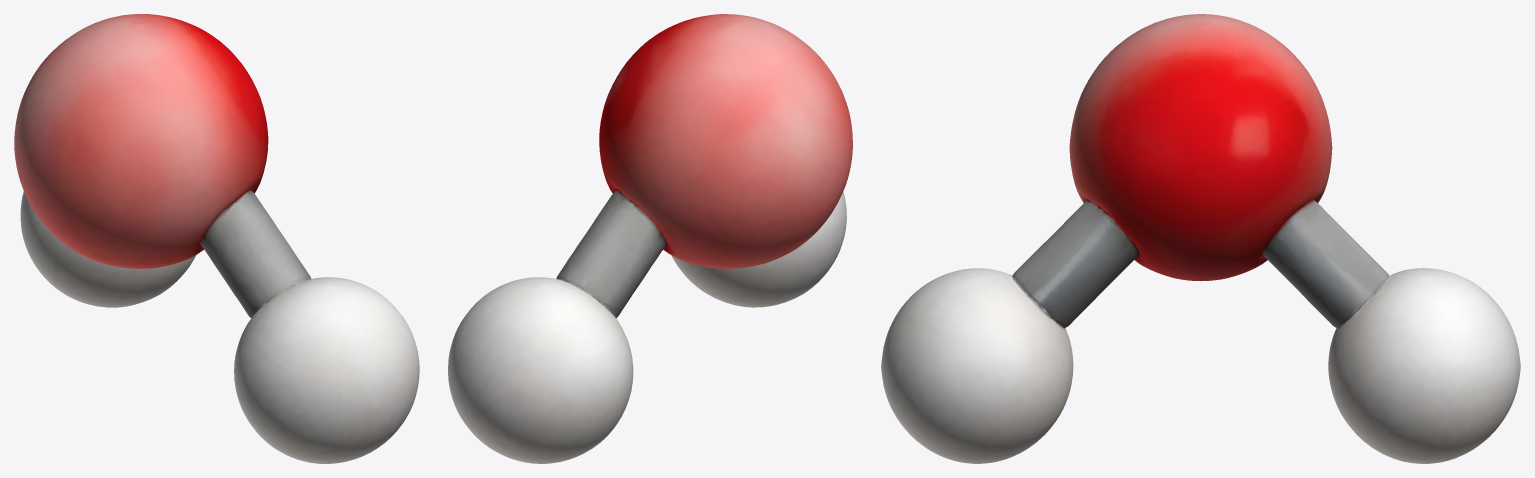
File: water-molecule.glb
3 views of the same model, side by side, from view 1: azimuth 30°, elevation 25°; view 2: azimuth 150°, elevation 25°; view 3: azimuth 270°, elevation 25° (orthographic). The views are drawn at different scales.
Visible parts, largest first — view 1: water-molecule; view 2: water-molecule; view 3: water-molecule.
Part boxes in pixels (left/top/right/bottom): water-molecule: left=14, top=14, right=419, bottom=463; water-molecule: left=448, top=14, right=852, bottom=463; water-molecule: left=881, top=14, right=1520, bottom=463.
Size of the model in its own units: 0.0614 by 0.0806 by 0.12.
Materials: 1 (1 with a texture image).
